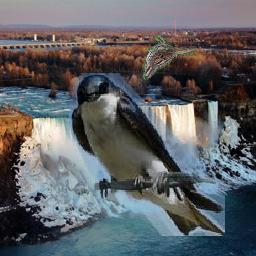Sparrow: (142, 36, 196, 81)
Swallow: (69, 74, 225, 237)
